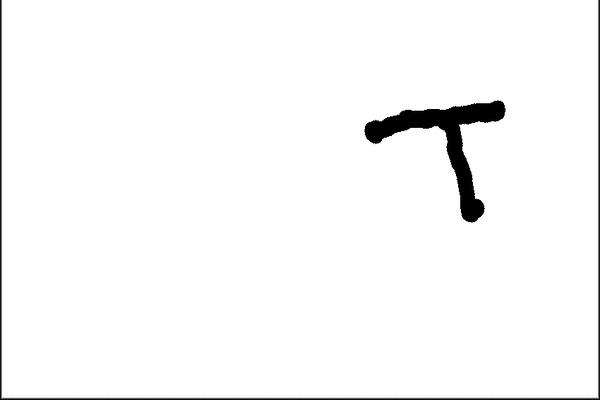T: (357, 98, 536, 230)
